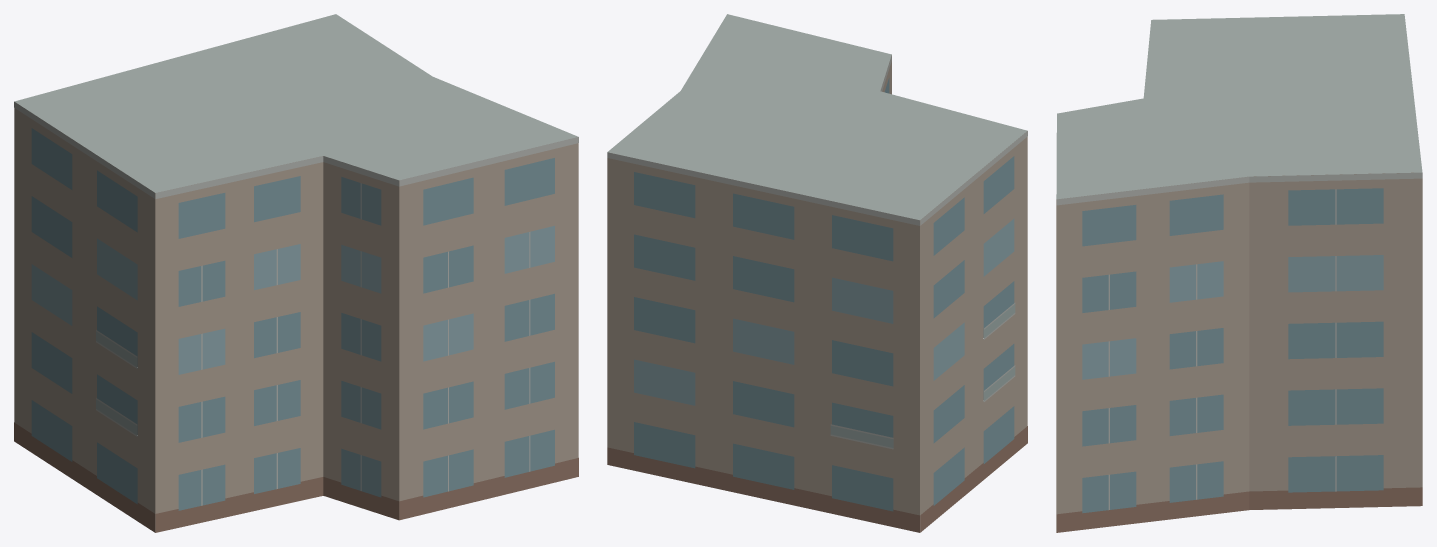
The model's file is survey-upis-32604573.glb.
3 renders of one model, left to right at view 1: azimuth 30°, elevation 25°; view 2: azimuth 150°, elevation 25°; view 3: azimuth 270°, elevation 25°, orthographic. The views are drawn at different scales.
Visible parts, largest first — view 1: survey-upis-32604573.tmp; view 2: survey-upis-32604573.tmp; view 3: survey-upis-32604573.tmp.
Part boxes in pixels (x1,y1,x2,y2): survey-upis-32604573.tmp: (14,14,578,532); survey-upis-32604573.tmp: (607,14,1027,532); survey-upis-32604573.tmp: (1056,14,1422,532).
Bounding box in the file's own units: 15.95 × 13.37 × 13.31.
